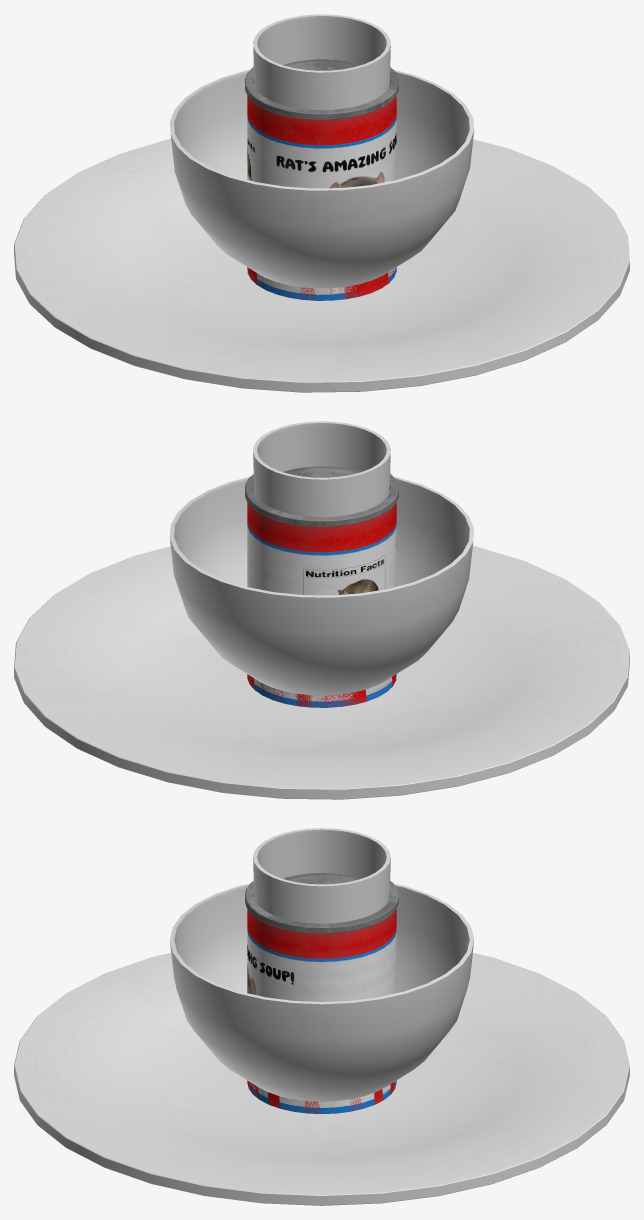
Rendered from Cups, Plates, Bowl, Soup Cans.fbx.
3 views of the same model, one above another, from view 1: azimuth 30°, elevation 25°; view 2: azimuth 150°, elevation 25°; view 3: azimuth 270°, elevation 25° (orthographic).
Visible parts, largest first — view 1: Plate LOW, Bowl LOW, Tall Can, Cup LOW, Small Can; view 2: Plate LOW, Bowl LOW, Tall Can, Cup LOW, Small Can; view 3: Plate LOW, Bowl LOW, Tall Can, Cup LOW, Small Can.
Part boxes in pixels (bbox=[...]): Plate LOW: bbox=[14, 138, 629, 392]; Bowl LOW: bbox=[169, 69, 474, 288]; Tall Can: bbox=[245, 59, 398, 300]; Cup LOW: bbox=[253, 14, 390, 109]; Small Can: bbox=[247, 267, 396, 300]; Plate LOW: bbox=[14, 545, 629, 799]; Bowl LOW: bbox=[169, 476, 474, 695]; Tall Can: bbox=[245, 466, 398, 707]; Cup LOW: bbox=[253, 421, 390, 516]; Small Can: bbox=[247, 674, 396, 707]; Plate LOW: bbox=[14, 953, 629, 1205]; Bowl LOW: bbox=[169, 883, 474, 1101]; Tall Can: bbox=[245, 873, 398, 1113]; Cup LOW: bbox=[253, 828, 390, 923]; Small Can: bbox=[248, 1080, 396, 1113].
Bounding box in the file's own units: 835 × 356 × 835.
1 material, 1 textured.
